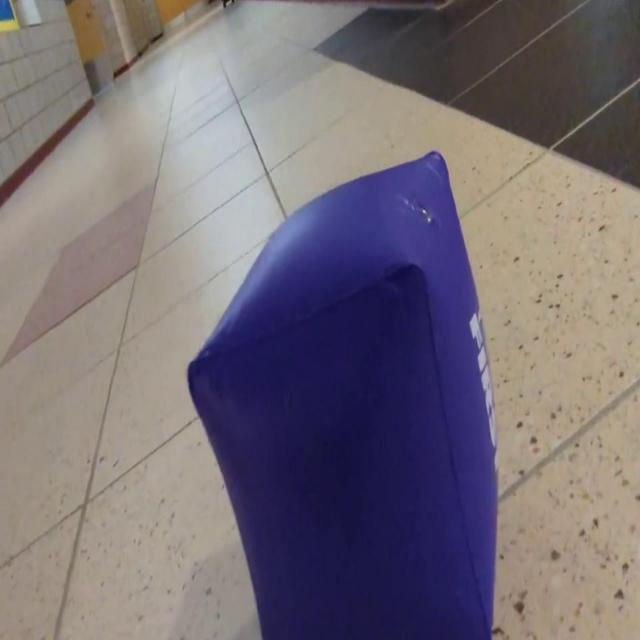frc_cube: (187, 150, 499, 640)
